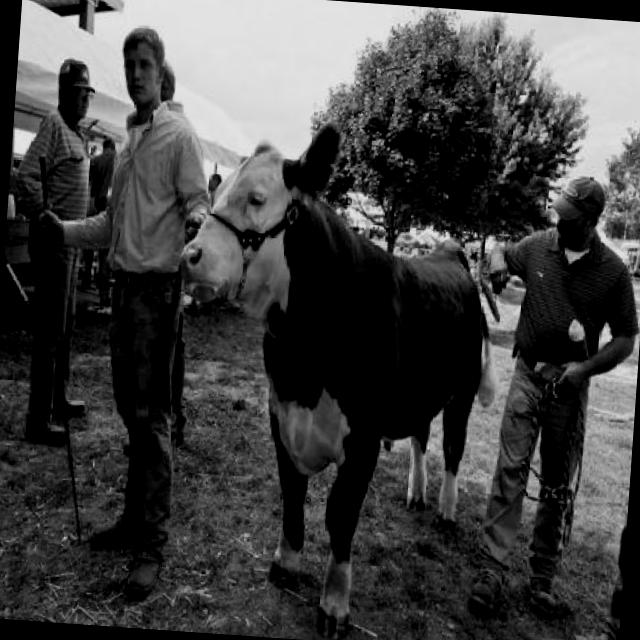Person: (13, 21, 222, 600), (464, 170, 640, 623), (0, 50, 112, 446), (152, 59, 224, 230), (88, 134, 119, 212), (209, 170, 224, 190)
